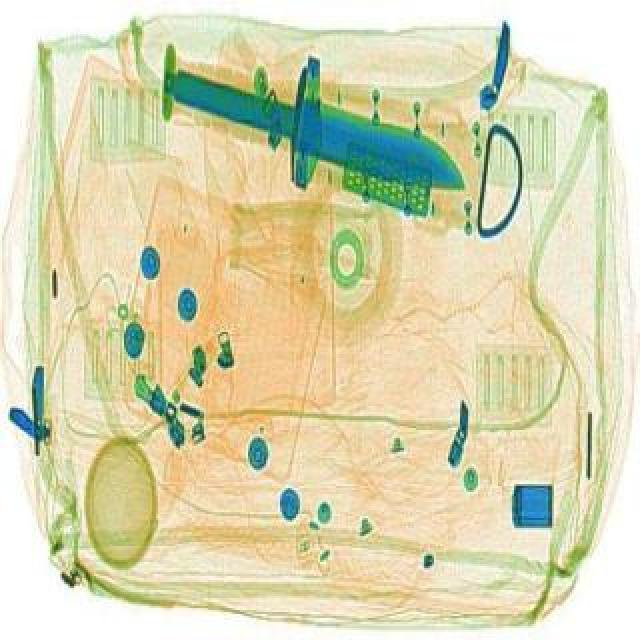knife: (134, 2, 504, 240)
